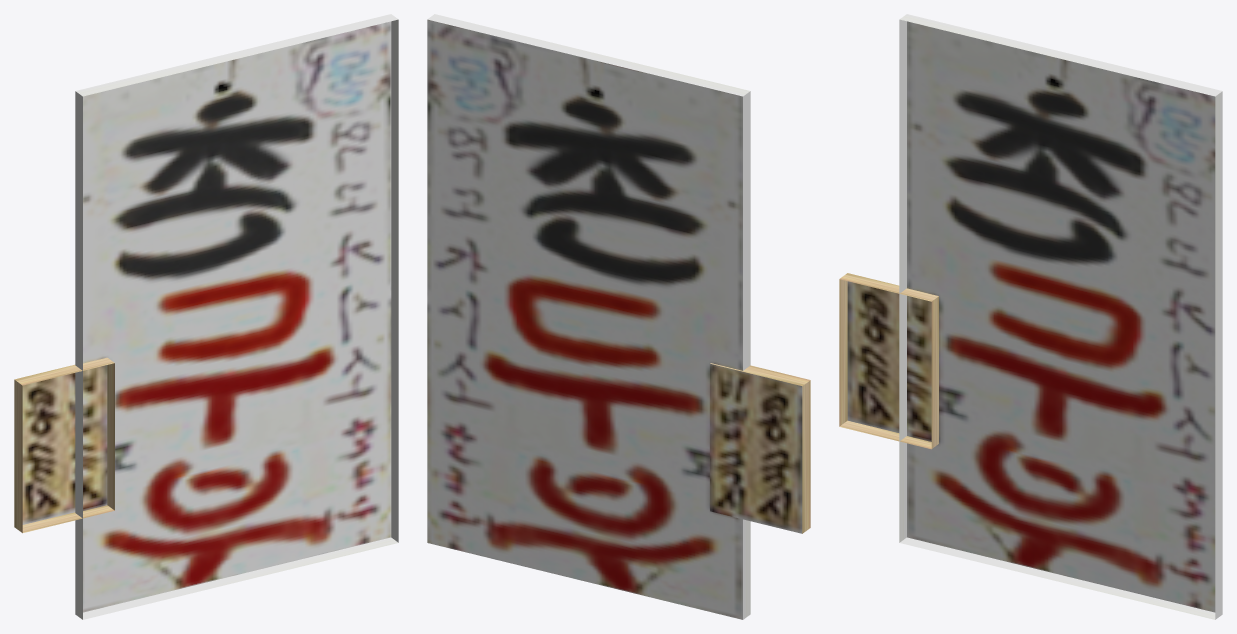
File: dubujip.FBX
The picture shows the model from 3 angles, left to right: view 1: azimuth 30°, elevation 25°; view 2: azimuth 150°, elevation 25°; view 3: azimuth 330°, elevation 25°; orthographic projection.
Visible parts, largest first — view 1: Box001; view 2: Box001; view 3: Box001.
Part boxes in pixels (left/top/right/bottom): Box001: left=14, top=14, right=398, bottom=619; Box001: left=427, top=14, right=810, bottom=619; Box001: left=839, top=14, right=1222, bottom=619.
Bounding box in the file's own units: 42.42 × 56.41 × 1.64.
Materials: 1 (1 with a texture image).
